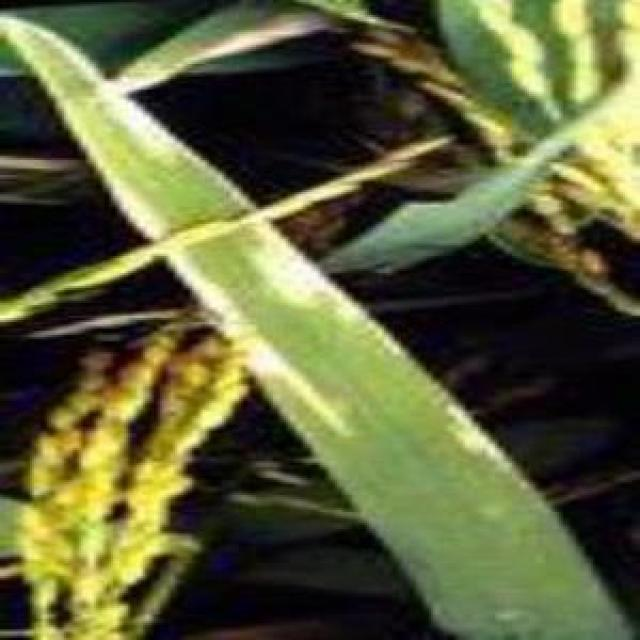Bacterial_Blight: (101, 181, 349, 430), (246, 209, 409, 360), (48, 33, 188, 159), (445, 405, 518, 471)
